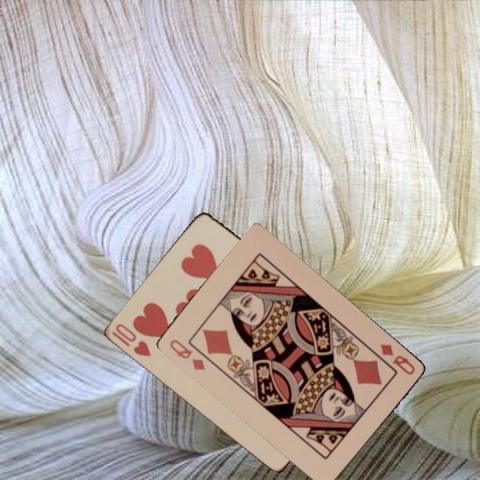10h: (108, 320, 152, 358)
Qd: (378, 340, 418, 376), (167, 336, 207, 372)
